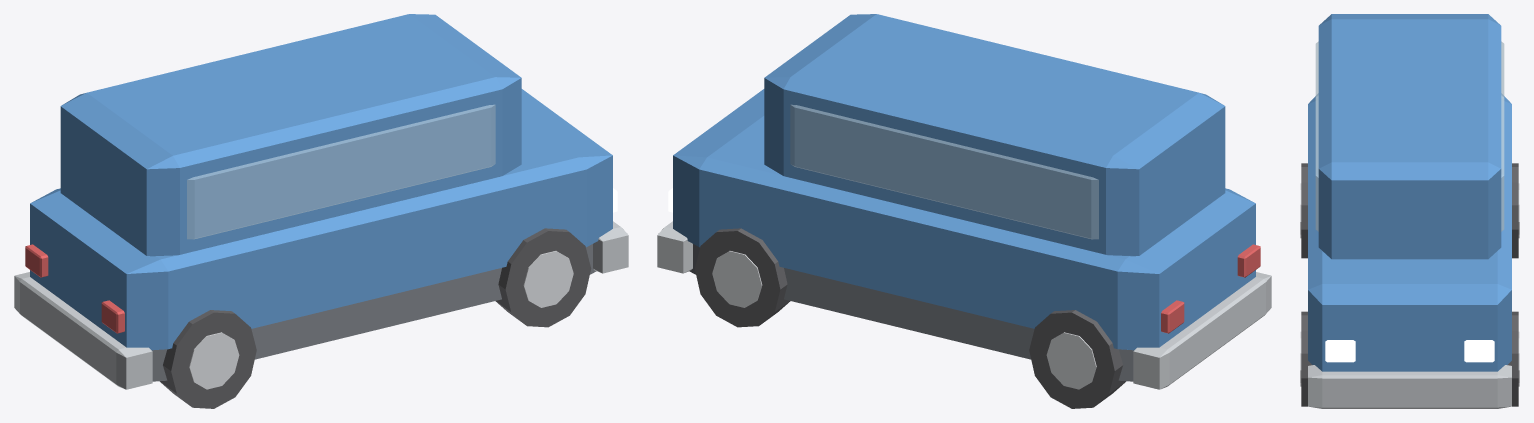
Rendered from b03_highroof_passenger_van.glb.
The picture shows the model from 3 angles, left to right: view 1: azimuth 30°, elevation 25°; view 2: azimuth 150°, elevation 25°; view 3: azimuth 270°, elevation 25°; orthographic projection. The views are drawn at different scales.
Visible parts, largest first — view 1: b03_highroof_passenger_van; view 2: b03_highroof_passenger_van; view 3: b03_highroof_passenger_van.
Boxes of the visible parts, box(x1,y1,x2,y2) form: b03_highroof_passenger_van: box(14, 14, 628, 408); b03_highroof_passenger_van: box(657, 14, 1271, 408); b03_highroof_passenger_van: box(1300, 14, 1519, 408).
Size of the model in its own units: 6.15 by 2.87 by 2.53.
